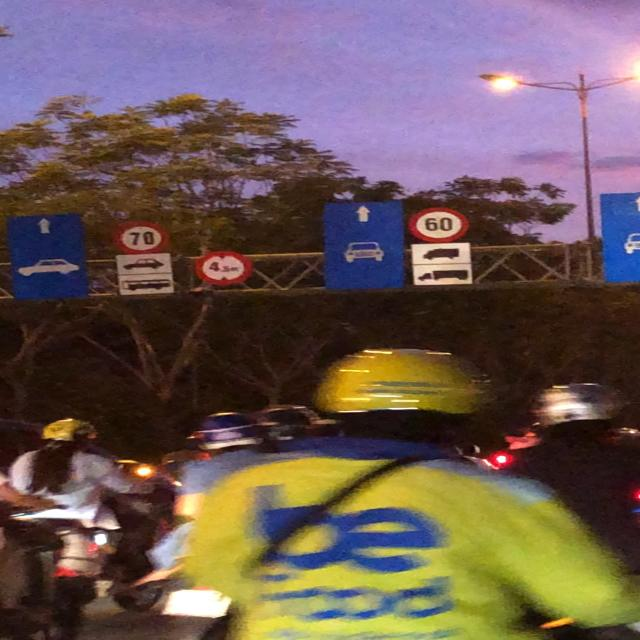Bien bao han che chieu cao: (188, 248, 257, 287)
Bien bao toc do toi da cho phep: (403, 202, 472, 242), (106, 218, 172, 257)
